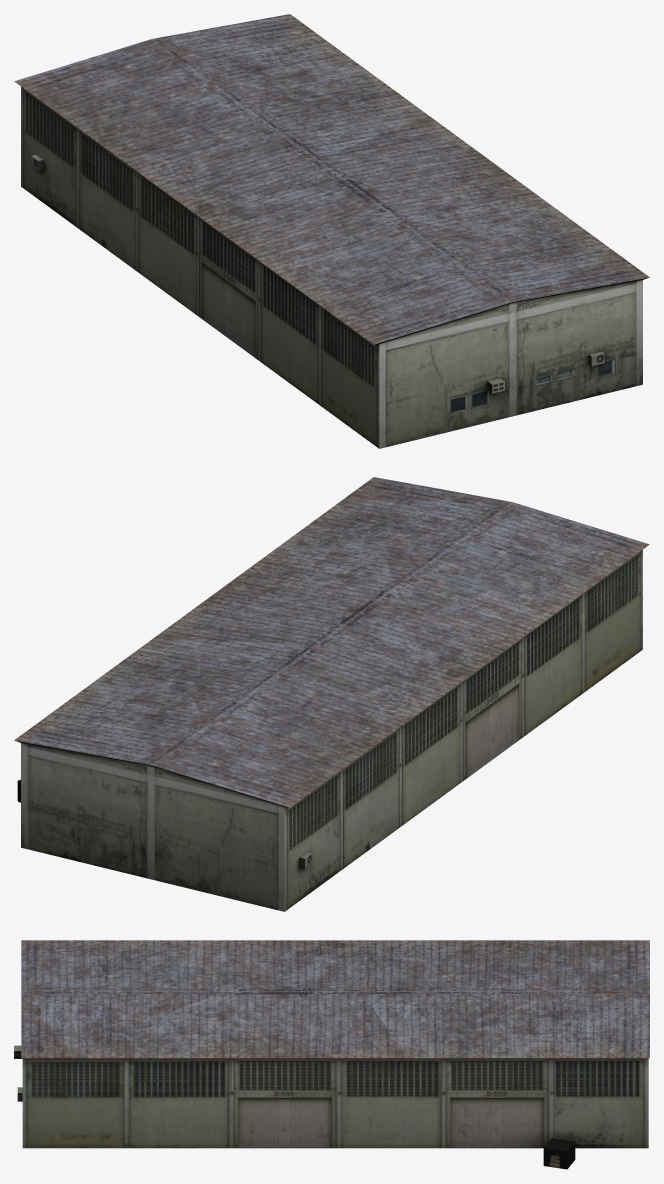
The model's file is 0__MilitaryBase_Porto.FBX.
The picture shows the model from 3 angles, top to bottom: view 1: azimuth 30°, elevation 25°; view 2: azimuth 150°, elevation 25°; view 3: azimuth 270°, elevation 25°; orthographic projection. The views are drawn at different scales.
Visible parts, largest first — view 1: 0__MilitaryBase_Porto; view 2: 0__MilitaryBase_Porto; view 3: 0__MilitaryBase_Porto.
Part boxes in pixels (bbox=[...]): 0__MilitaryBase_Porto: bbox=[14, 14, 649, 448]; 0__MilitaryBase_Porto: bbox=[14, 477, 649, 911]; 0__MilitaryBase_Porto: bbox=[14, 940, 649, 1169].
Size of the model in its own units: 186 by 64.08 by 368.
